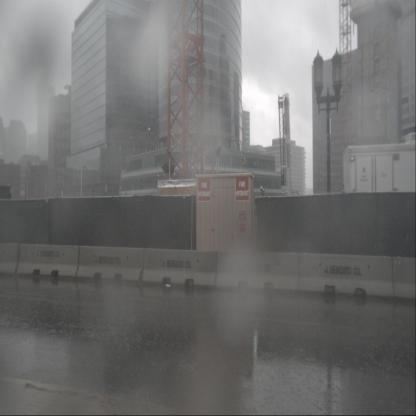barrier: (298, 252, 394, 297), (215, 250, 299, 294), (141, 248, 217, 290), (76, 245, 144, 282), (16, 243, 79, 277), (392, 256, 416, 301), (0, 242, 20, 274)
